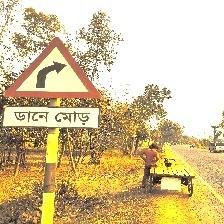Right-turn: (2, 36, 105, 132)
